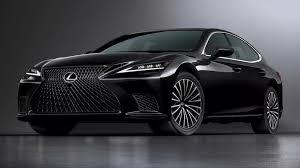lexus: (58, 68, 80, 85)
